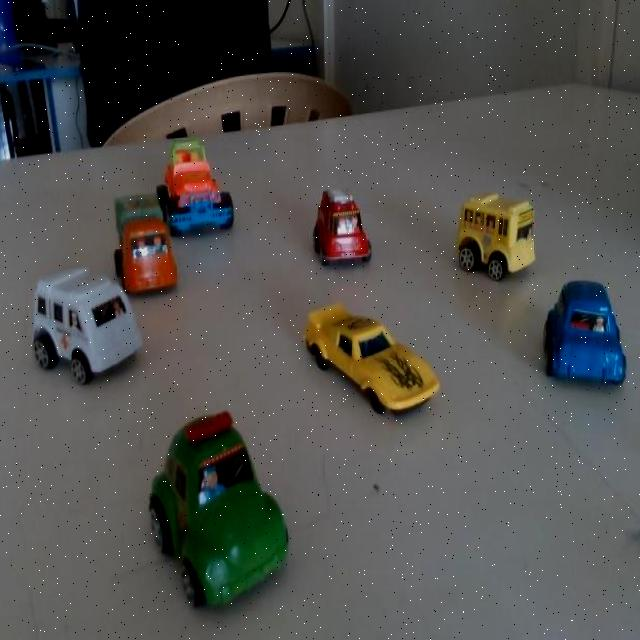car: (135, 415, 294, 606), (299, 295, 442, 426), (28, 254, 143, 397), (542, 278, 634, 397), (447, 191, 534, 292), (164, 132, 246, 235), (111, 186, 177, 301), (302, 179, 372, 281)
